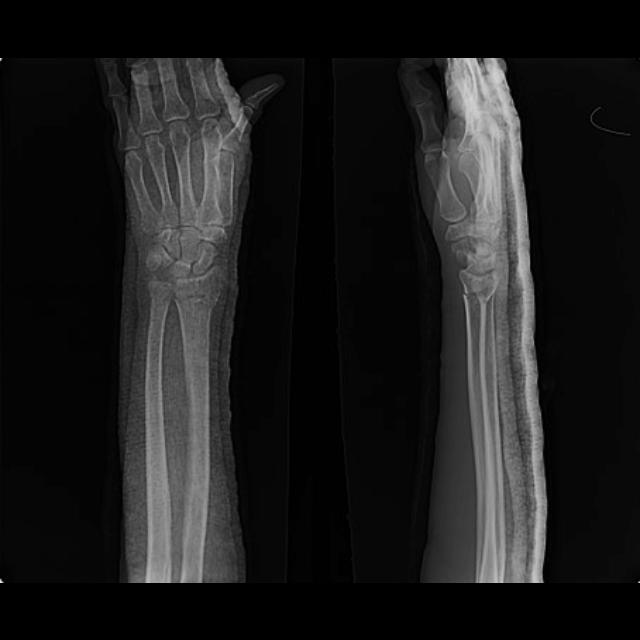Fracture: (174, 281, 224, 306), (461, 289, 495, 310)
